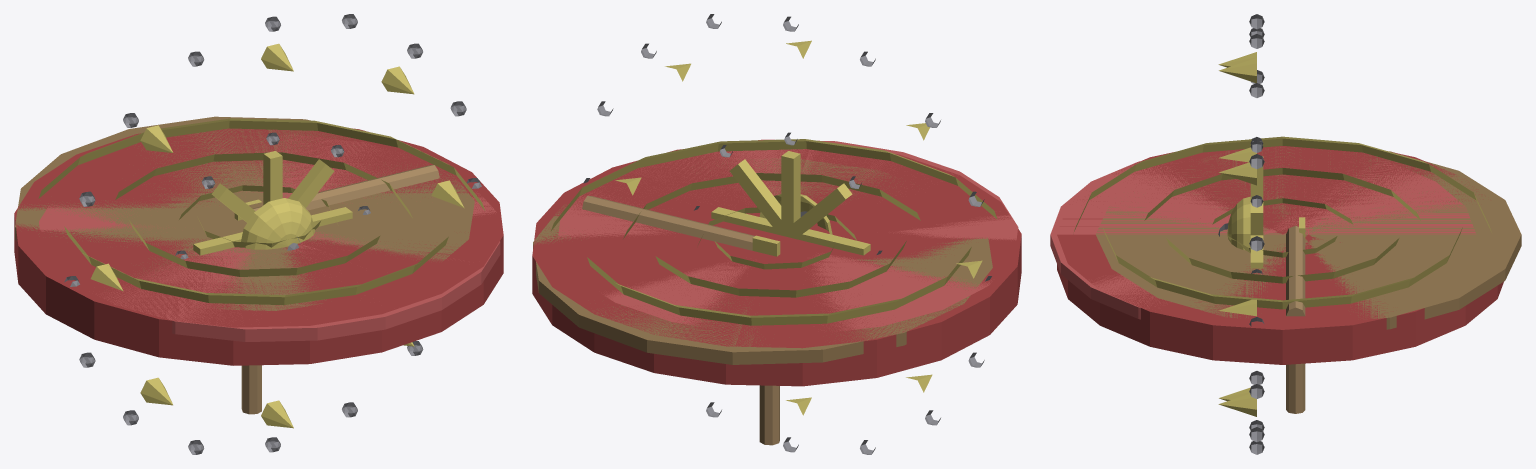
Rendered from shield.glb.
The picture shows the model from 3 angles, left to right: view 1: azimuth 30°, elevation 25°; view 2: azimuth 150°, elevation 25°; view 3: azimuth 270°, elevation 25°; orthographic projection. The views are drawn at different scales.
Parts seen in each view (by area): view 1: geometry_0; view 2: geometry_0; view 3: geometry_0.
Boxes of the visible parts, x1,y1,x2,y2 form: geometry_0: [14, 14, 503, 454]; geometry_0: [532, 14, 1021, 454]; geometry_0: [1050, 14, 1521, 454].
Bounding box in the file's own units: 0.7 × 0.6808 × 0.73.
